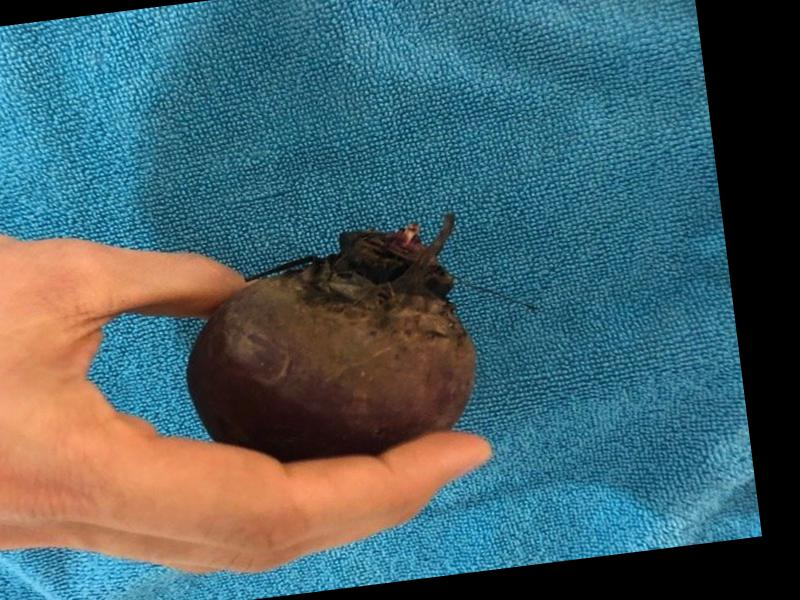Beet: (173, 213, 484, 474)
